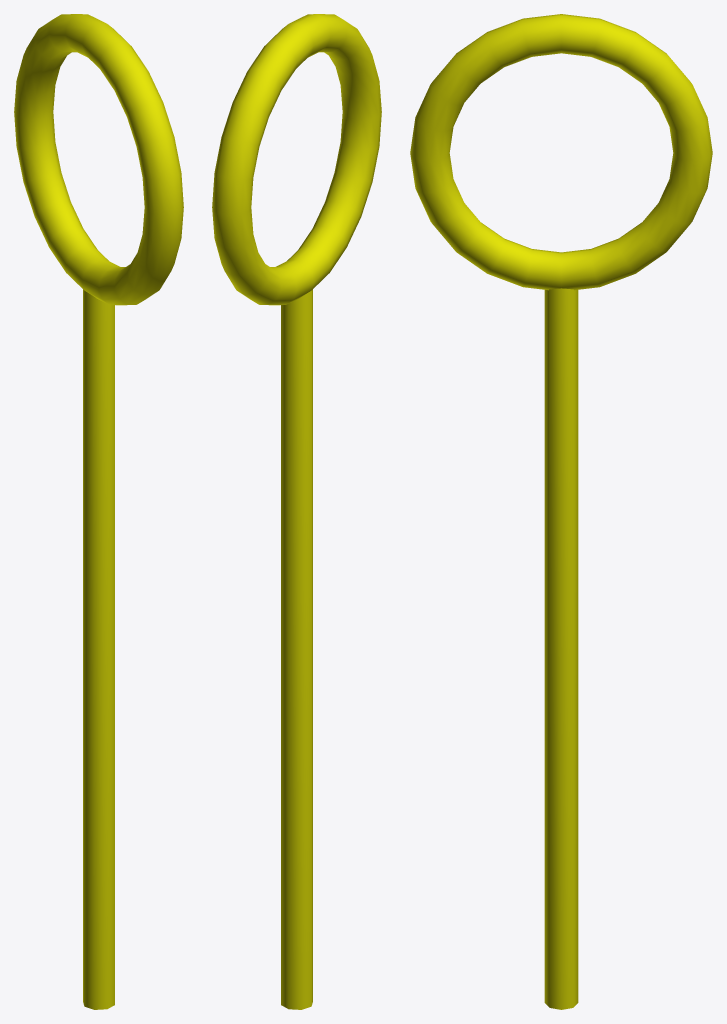
The model's file is ring2.fbx.
3 renders of one model, left to right at view 1: azimuth 30°, elevation 25°; view 2: azimuth 150°, elevation 25°; view 3: azimuth 270°, elevation 25°, orthographic.
Visible parts, largest first — view 1: ring2, column2; view 2: ring2, column2; view 3: ring2, column2.
Boxes of the visible parts, bbox=[...] form: ring2: bbox=[14, 14, 183, 305]; column2: bbox=[83, 289, 114, 1009]; ring2: bbox=[212, 14, 381, 305]; column2: bbox=[281, 289, 312, 1009]; ring2: bbox=[410, 14, 712, 290]; column2: bbox=[544, 288, 578, 1009].
Size of the model in its own units: 92.18 by 2540 by 706.
